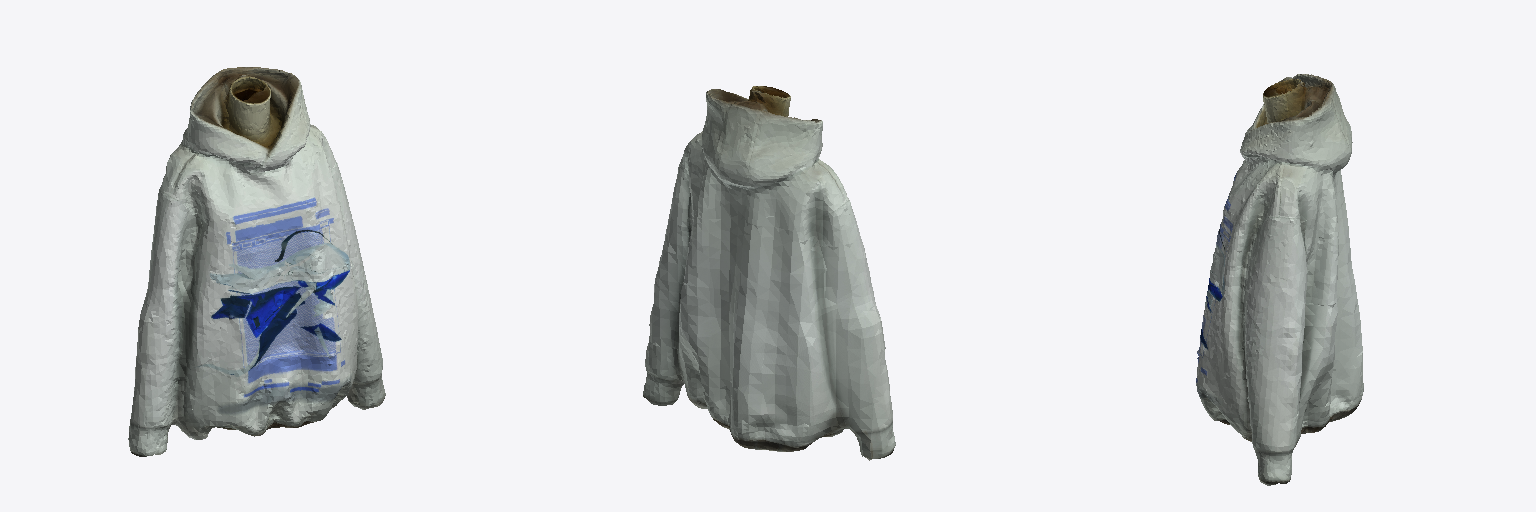
3 views of the same model, side by side, from view 1: azimuth 30°, elevation 25°; view 2: azimuth 150°, elevation 25°; view 3: azimuth 270°, elevation 25° (orthographic).
Visible parts, largest first — view 1: mesh.017; view 2: mesh.017; view 3: mesh.017.
Boxes of the visible parts, <box> form: mesh.017: <box>128,67,385,456</box>; mesh.017: <box>643,86,895,460</box>; mesh.017: <box>1196,74,1363,485</box>.
Size of the model in its own units: 8.13 by 10.88 by 4.76.
Materials: 2 (2 with a texture image).